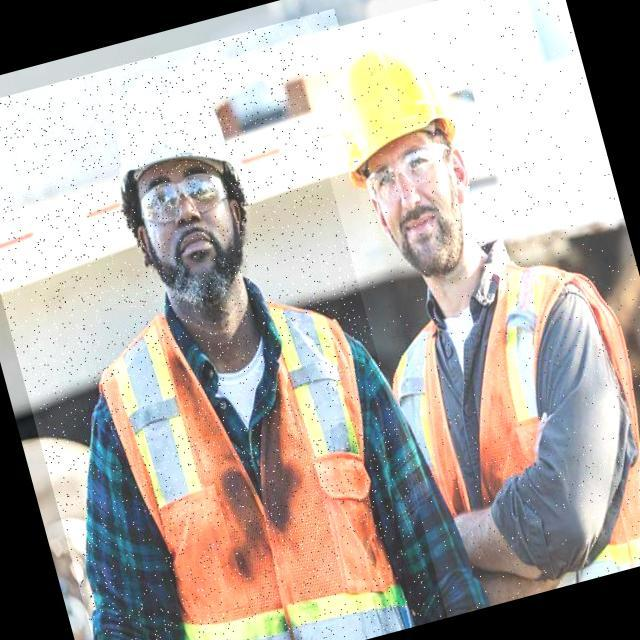Helmet: (91, 53, 247, 217), (316, 28, 466, 194)
Human: (0, 8, 493, 640), (292, 0, 640, 617)
Safety Vest: (87, 269, 424, 640), (370, 238, 640, 615)
